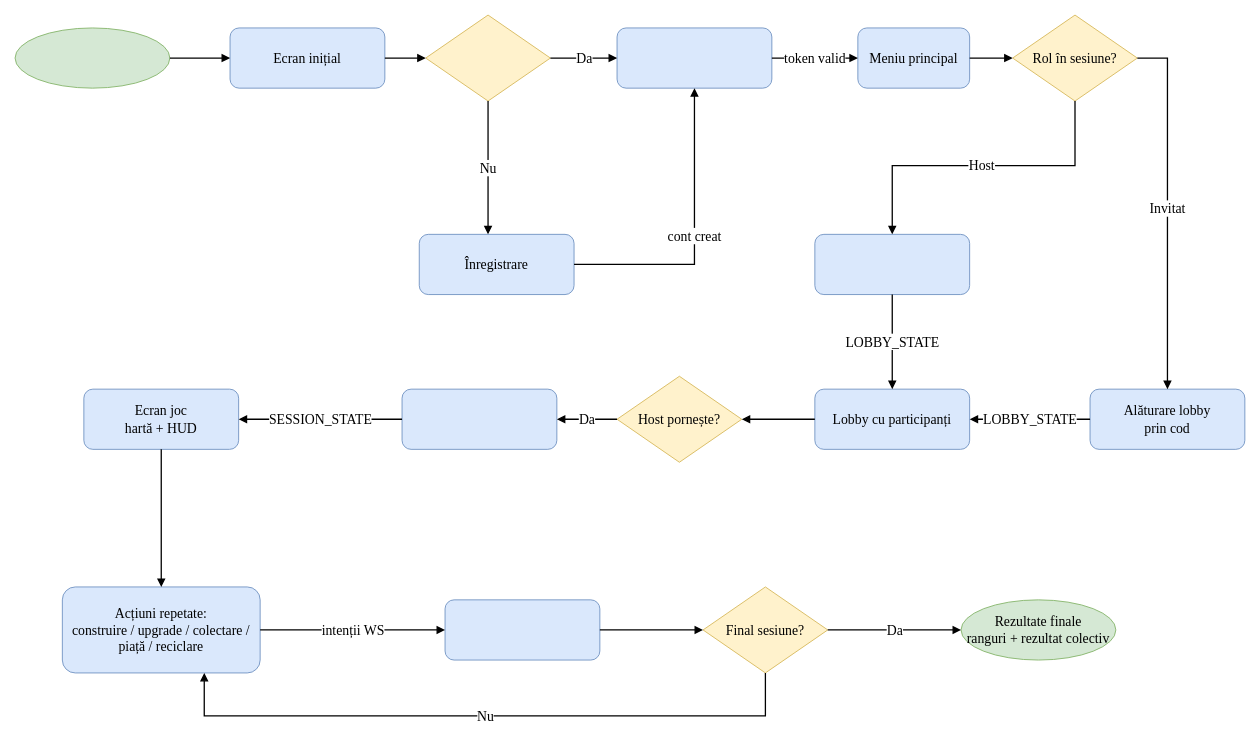
Some shapes in this 1260 by 739 pixel diagram are drawn without their labels. The centre of each missing label's shape, as x and y in pixels:
"Actualizare stare + indicatori" belongs at (x=522, y=629).
"Are cont?" belongs at (x=487, y=57).
"Autentificare" belongs at (x=694, y=57).
"Creare lobby cod generat" belongs at (x=892, y=264).
"Inițializare sesiune hartă individuală" belongs at (x=479, y=418).
"Start aplicație" belongs at (x=92, y=57).
